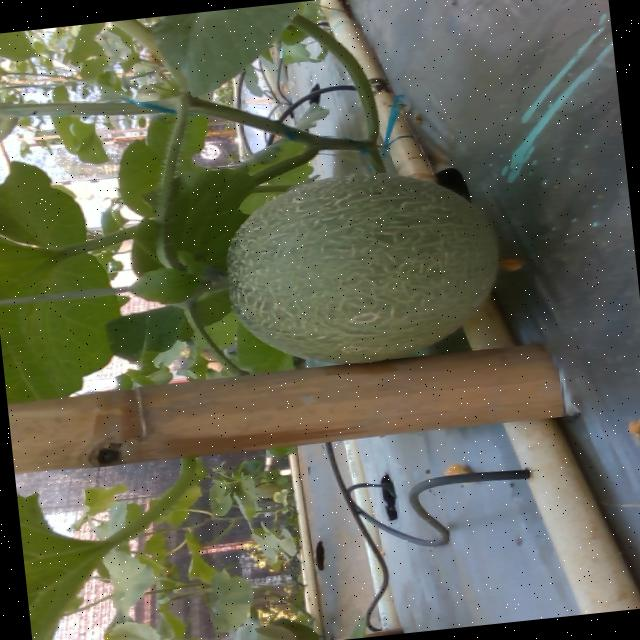melon: (227, 171, 496, 361)
